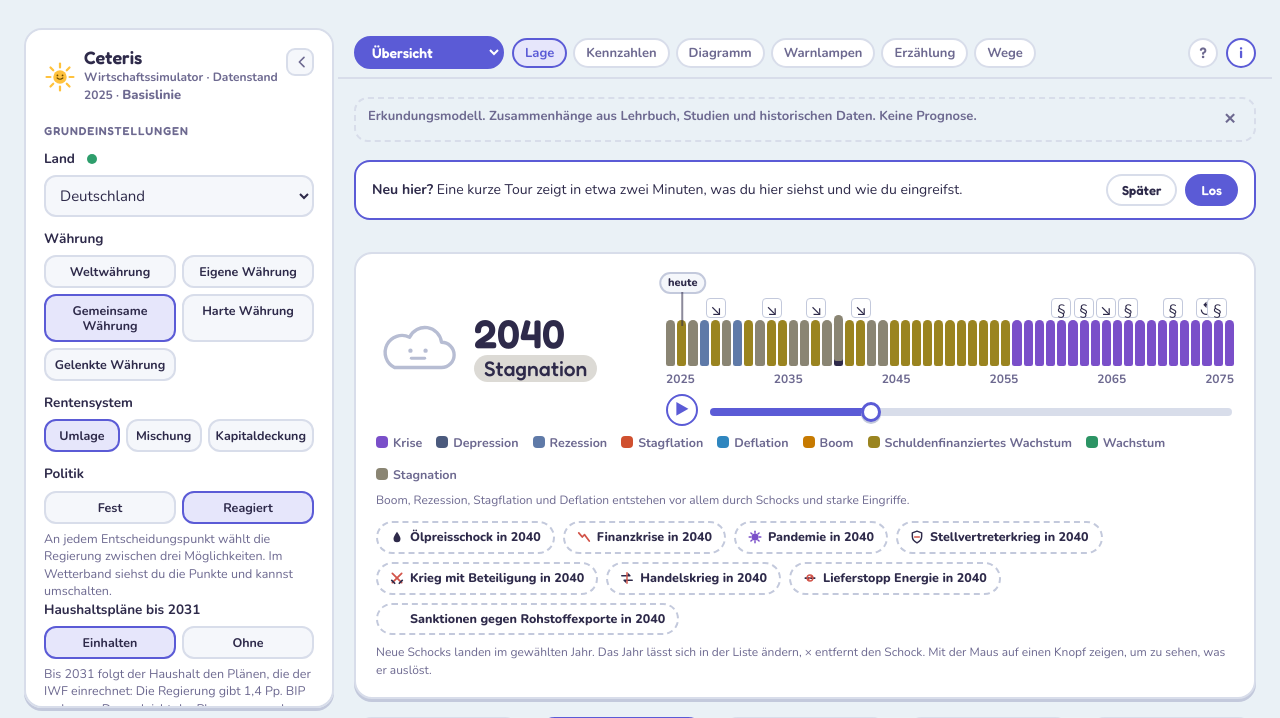
Test: 13.13 Entscheidungspunkte zum Umschalten › Politik „Fest“: keine Knöpfe, keine Karte
The width and height of the screenshot is (1280, 718).
Click the 1st button "↘": [716, 308] box [706,298,726,318]
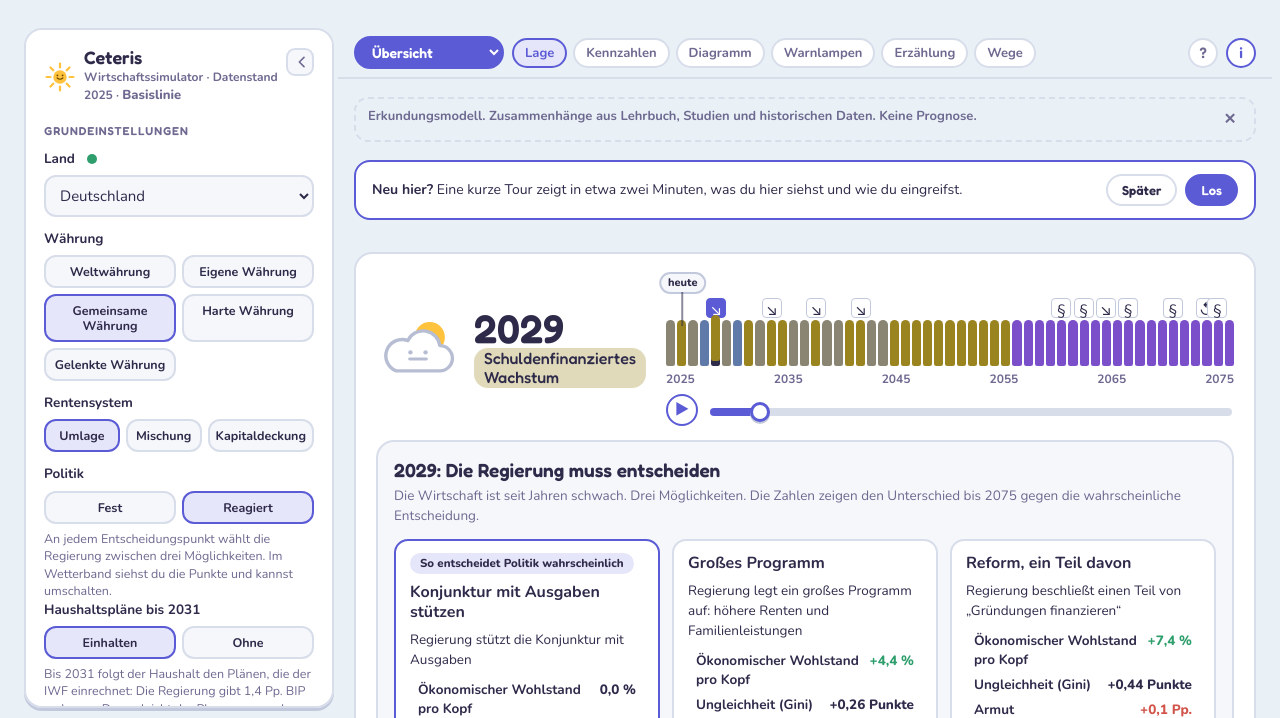
Click the radio button labelled "Fest": [110, 507] box [44,490,176,524]
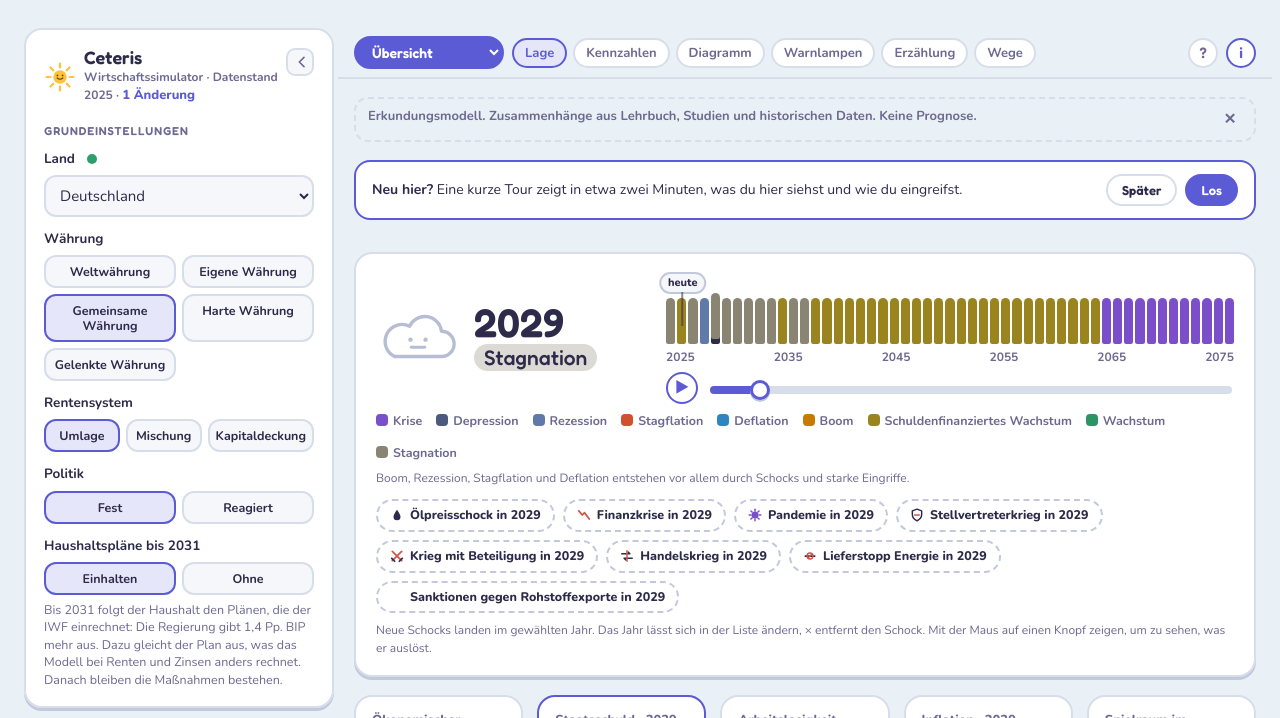
Expected: the heading "Die Regierung muss entscheiden" is gone
